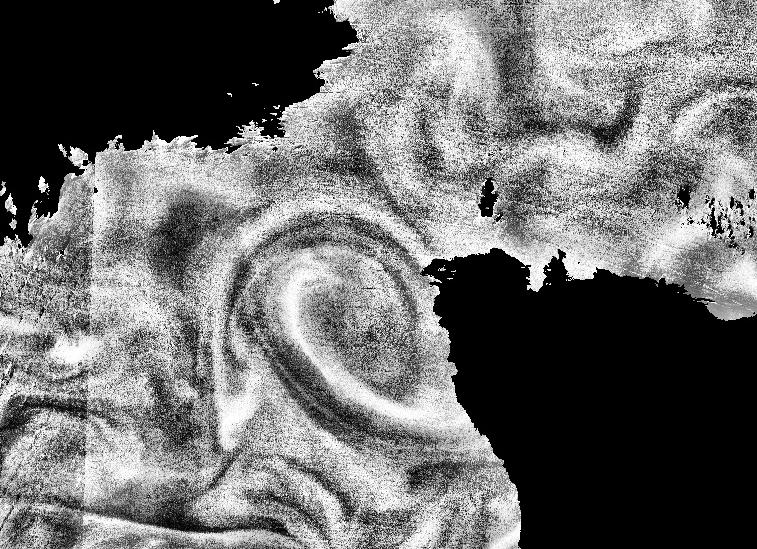AE: (246, 219, 436, 410)
